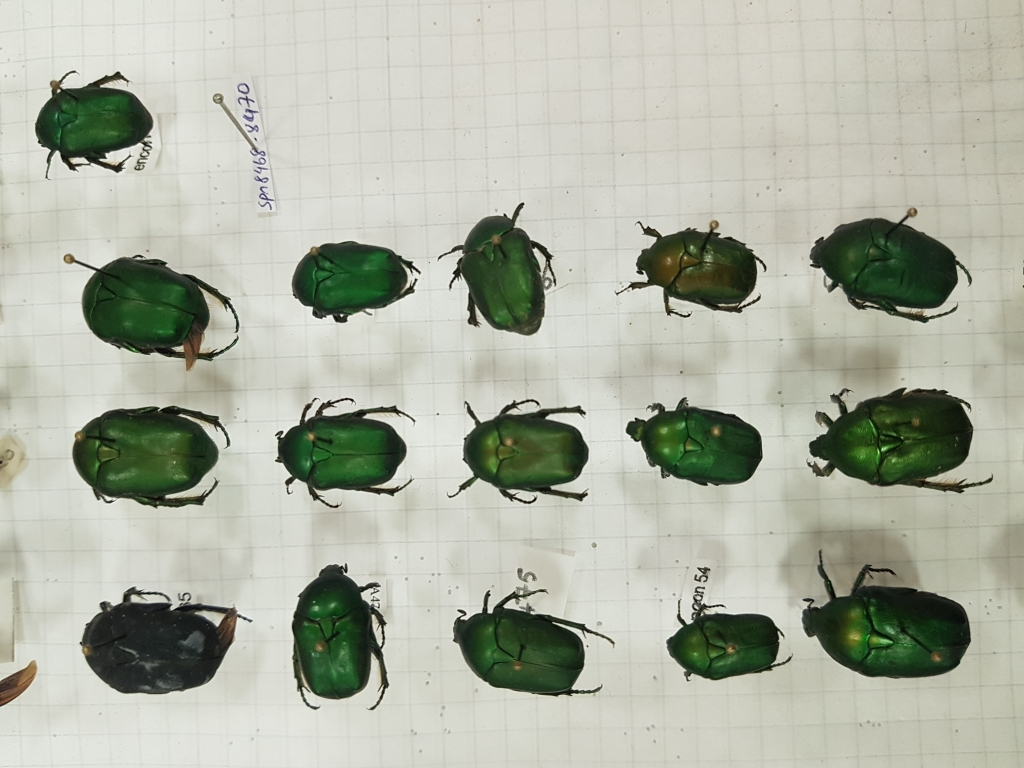Protaetia_ungarica_americana: (74, 564, 247, 705), (805, 546, 975, 689), (811, 368, 982, 500), (448, 580, 624, 704), (802, 207, 980, 323), (17, 58, 169, 181), (267, 392, 417, 515), (452, 397, 605, 515), (612, 213, 767, 326), (438, 197, 555, 340), (289, 559, 397, 712), (625, 392, 773, 492), (661, 597, 791, 692)
